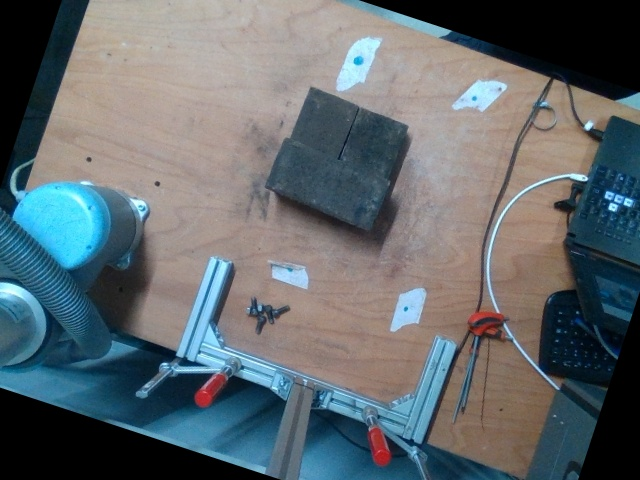brick: (266, 139, 387, 228)
